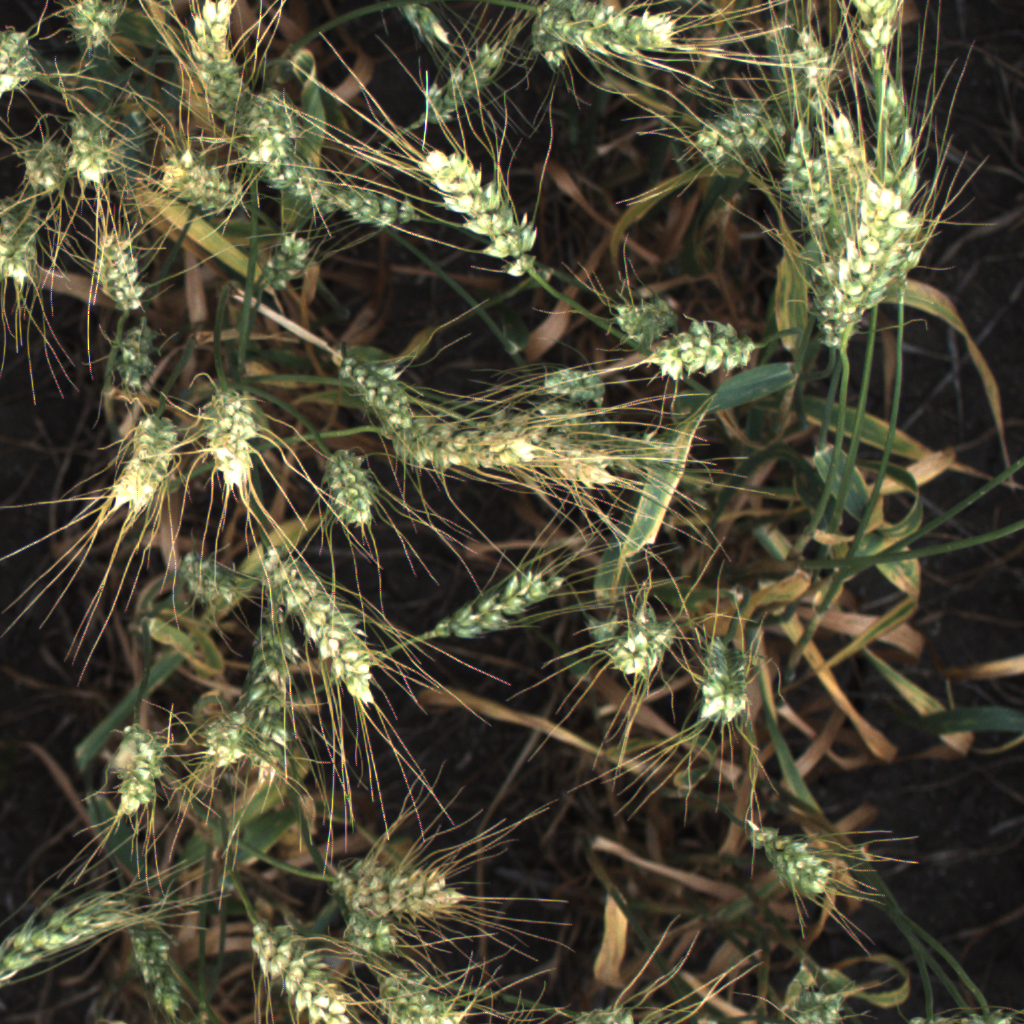wheat_head: (264, 520, 381, 705), (816, 169, 926, 356), (412, 140, 552, 282), (0, 881, 142, 992), (461, 404, 632, 493), (424, 552, 575, 648), (846, 193, 947, 336), (224, 918, 357, 1024), (229, 602, 322, 740), (858, 48, 936, 212), (170, 0, 254, 136), (524, 0, 696, 65), (383, 415, 560, 478), (646, 312, 778, 394), (744, 812, 854, 910), (95, 411, 184, 523), (188, 380, 268, 501), (416, 33, 515, 130), (766, 123, 845, 242), (121, 914, 204, 1023), (344, 859, 488, 920), (678, 630, 760, 732), (93, 710, 169, 817), (85, 217, 158, 320), (333, 347, 421, 430), (675, 98, 793, 159), (148, 151, 251, 217), (599, 603, 672, 694), (597, 293, 705, 354), (55, 111, 136, 190), (319, 449, 392, 534), (374, 963, 474, 1024), (0, 183, 54, 295), (763, 19, 838, 97), (845, 0, 911, 82), (0, 10, 49, 116), (252, 221, 315, 301), (181, 713, 266, 772), (105, 313, 165, 394), (3, 125, 72, 192), (262, 158, 344, 214), (529, 356, 616, 408), (773, 978, 870, 1024), (248, 83, 297, 173), (171, 542, 240, 605), (379, 0, 462, 52), (565, 989, 677, 1024), (57, 0, 126, 55), (335, 191, 427, 231), (343, 911, 403, 952), (906, 1008, 1020, 1024)
